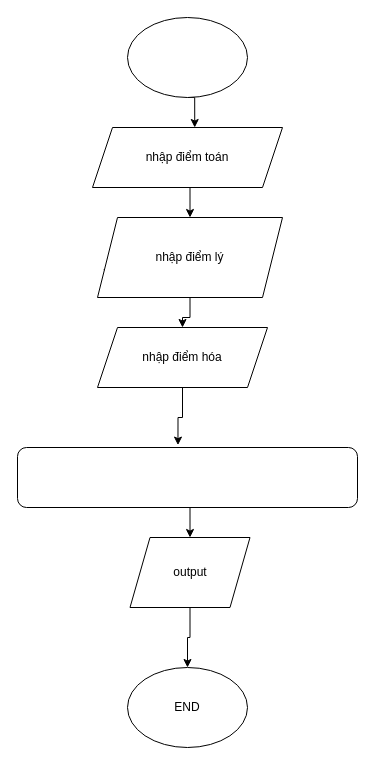
Image size: 375x765. Some labels were removed from this diagram. The shapes that lost their labels are listed below. From the top down, each one's box as (x1, y1, x2, y2) in pixels, then its label:
(126, 16, 248, 98): Input
(16, 446, 358, 508): Average = ( toan + ly + hoa ) / 3
